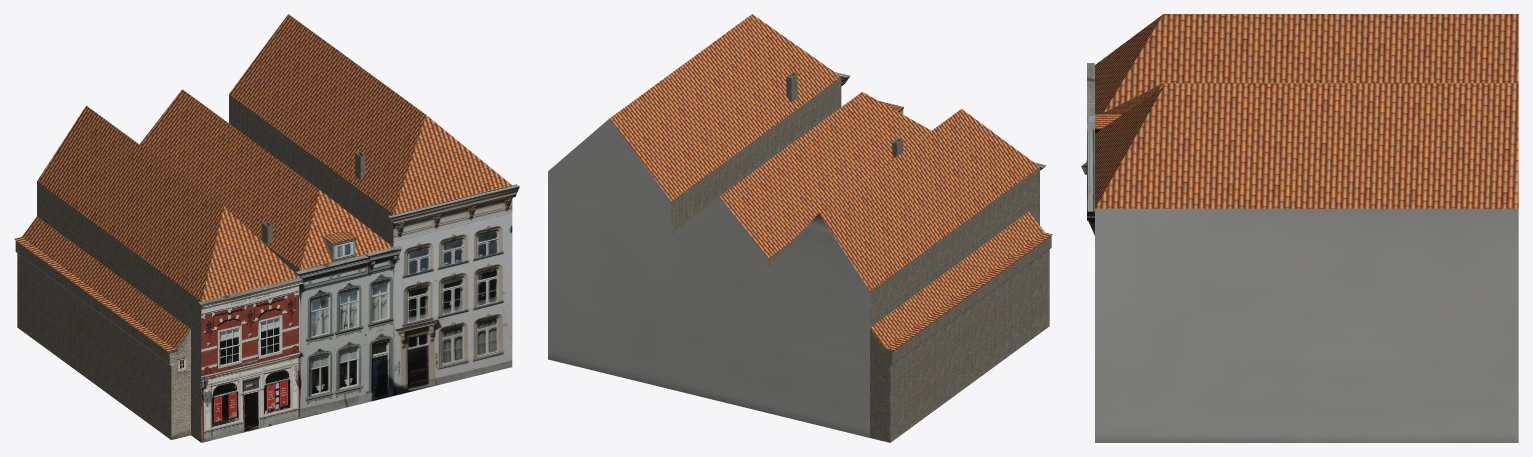
The model's file is eu_gabled_row.glb.
The picture shows the model from 3 angles, left to right: view 1: azimuth 30°, elevation 25°; view 2: azimuth 150°, elevation 25°; view 3: azimuth 270°, elevation 25°; orthographic projection. The views are drawn at different scales.
Parts seen in each view (by area): view 1: eu_04; view 2: eu_04; view 3: eu_04.
Boxes of the visible parts, <box> form: eu_04: <box>14,14,519,442</box>; eu_04: <box>548,14,1052,442</box>; eu_04: <box>1081,14,1518,442</box>.
Size of the model in its own units: 17.25 by 12.05 by 14.99.
Materials: 7 (6 with a texture image).
